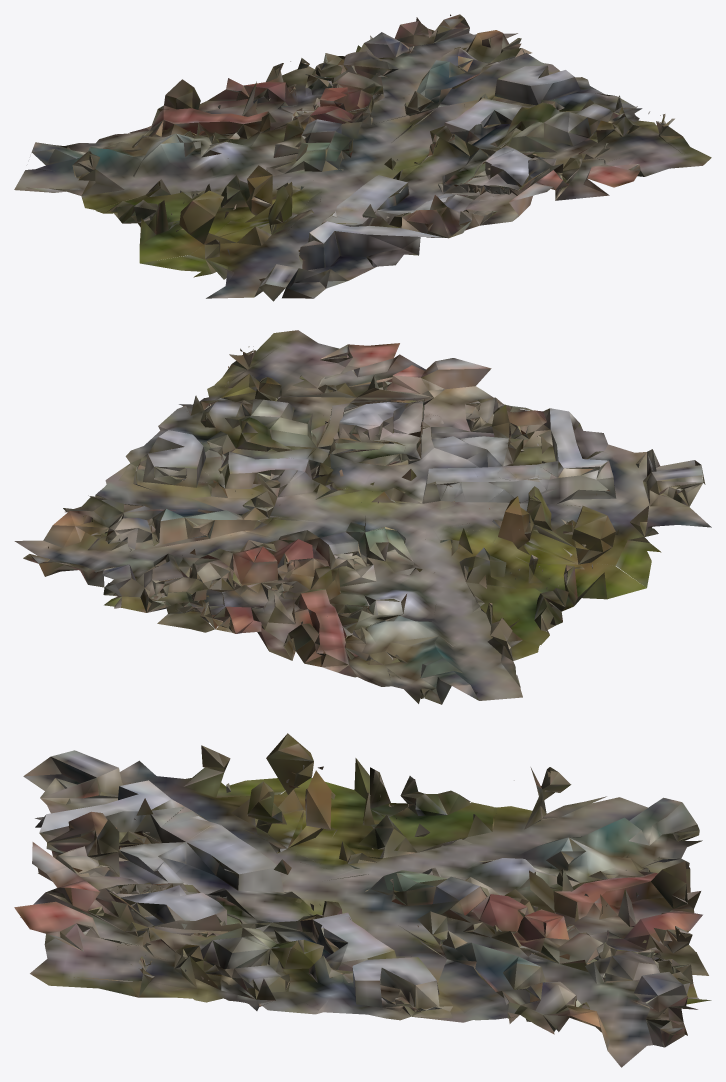
The model's file is Tile_014_011_L15.gltf.
The picture shows the model from 3 angles, top to bottom: view 1: azimuth 30°, elevation 25°; view 2: azimuth 150°, elevation 25°; view 3: azimuth 270°, elevation 25°; orthographic projection. The views are drawn at different scales.
Parts seen in each view (by area): view 1: Tile_+014_+011_L15; view 2: Tile_+014_+011_L15; view 3: Tile_+014_+011_L15.
Boxes of the visible parts, bbox=[...] form: Tile_+014_+011_L15: bbox=[14, 14, 711, 301]; Tile_+014_+011_L15: bbox=[14, 330, 711, 704]; Tile_+014_+011_L15: bbox=[14, 733, 711, 1067].
Bounding box in the file's own units: 238 × 44.97 × 225.
Materials: 1 (1 with a texture image).
